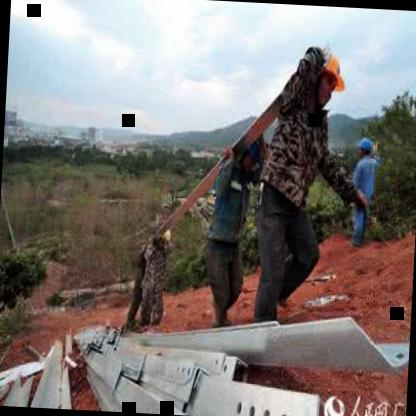helmet: (314, 50, 344, 104), (356, 132, 372, 160)
